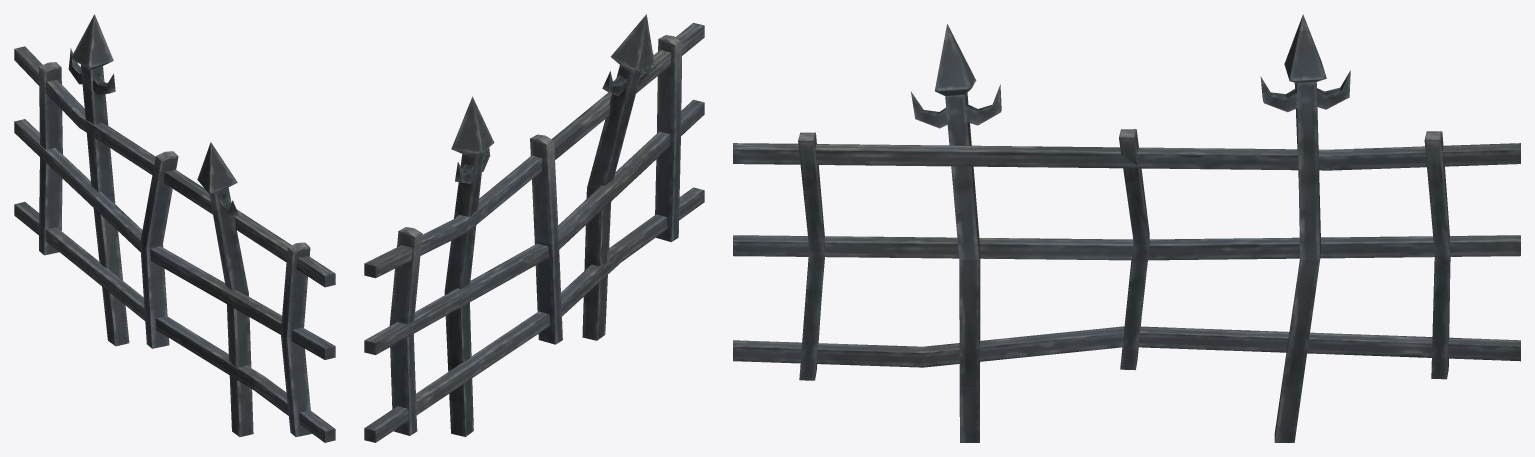
The model's file is Fence_001.obj.
The picture shows the model from 3 angles, left to right: view 1: azimuth 30°, elevation 25°; view 2: azimuth 150°, elevation 25°; view 3: azimuth 270°, elevation 25°; orthographic projection. The views are drawn at different scales.
Visible parts, largest first — view 1: Fence_001; view 2: Fence_001; view 3: Fence_001.
Boxes of the visible parts, <box> form: Fence_001: <box>14,14,335,442</box>; Fence_001: <box>364,14,704,442</box>; Fence_001: <box>733,14,1520,442</box>.
Bounding box in the file's own units: 0.9689 × 5.8 × 10.
